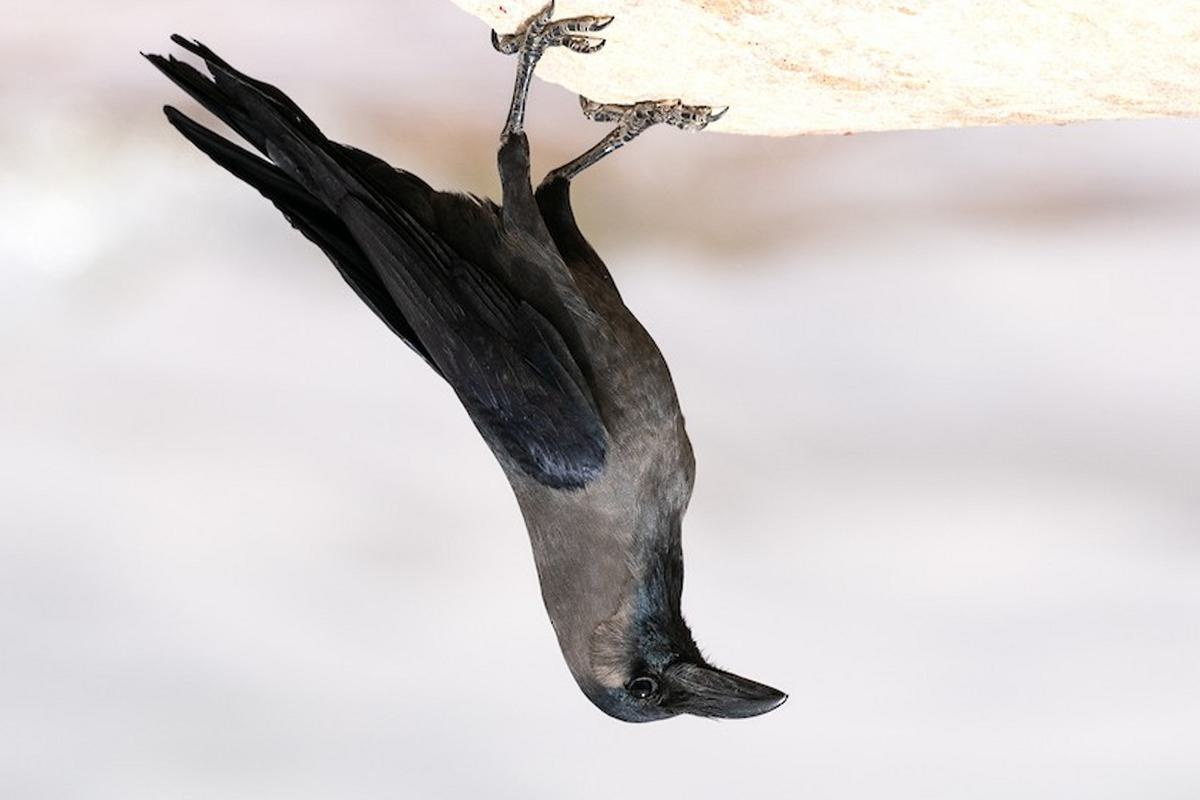crow: (148, 17, 792, 734)
